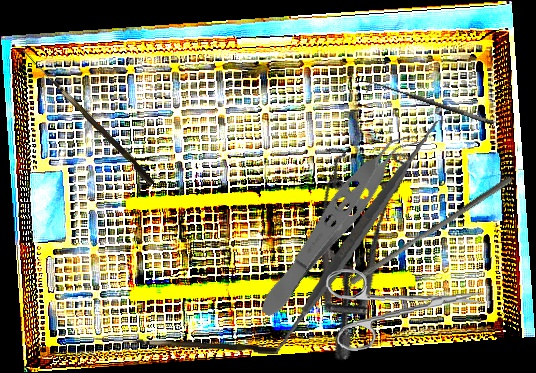Hook Surgical: (16, 49, 158, 187), (365, 77, 495, 135), (93, 337, 279, 355)
Iris Scissors: (325, 259, 488, 353)
Pusher: (349, 169, 513, 291)
Spatula Surgical: (242, 119, 472, 355)
Speculum: (267, 122, 468, 363)
Tissue Forceps: (250, 119, 424, 326)
